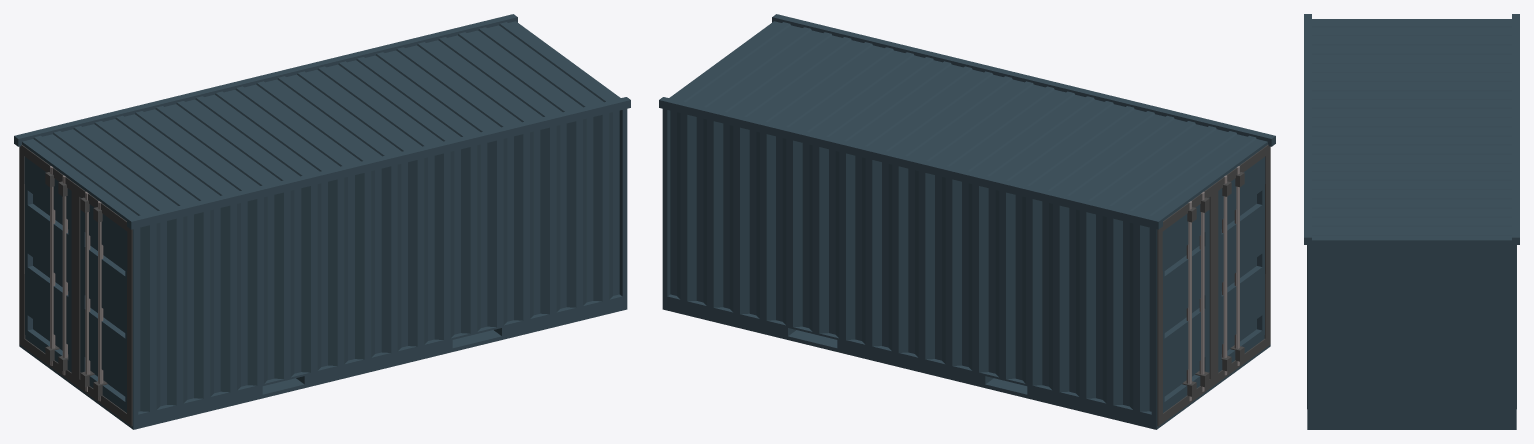
Rendered from Container.fbx.
The picture shows the model from 3 angles, left to right: view 1: azimuth 30°, elevation 25°; view 2: azimuth 150°, elevation 25°; view 3: azimuth 270°, elevation 25°; orthographic projection. The views are drawn at different scales.
Parts seen in each view (by area): view 1: Container; view 2: Container; view 3: Container.
Part boxes in pixels (x1,y1,x2,y2): Container: (14, 14, 630, 429); Container: (659, 14, 1275, 429); Container: (1304, 14, 1519, 429).
Size of the model in its own units: 608 by 244 by 247.
